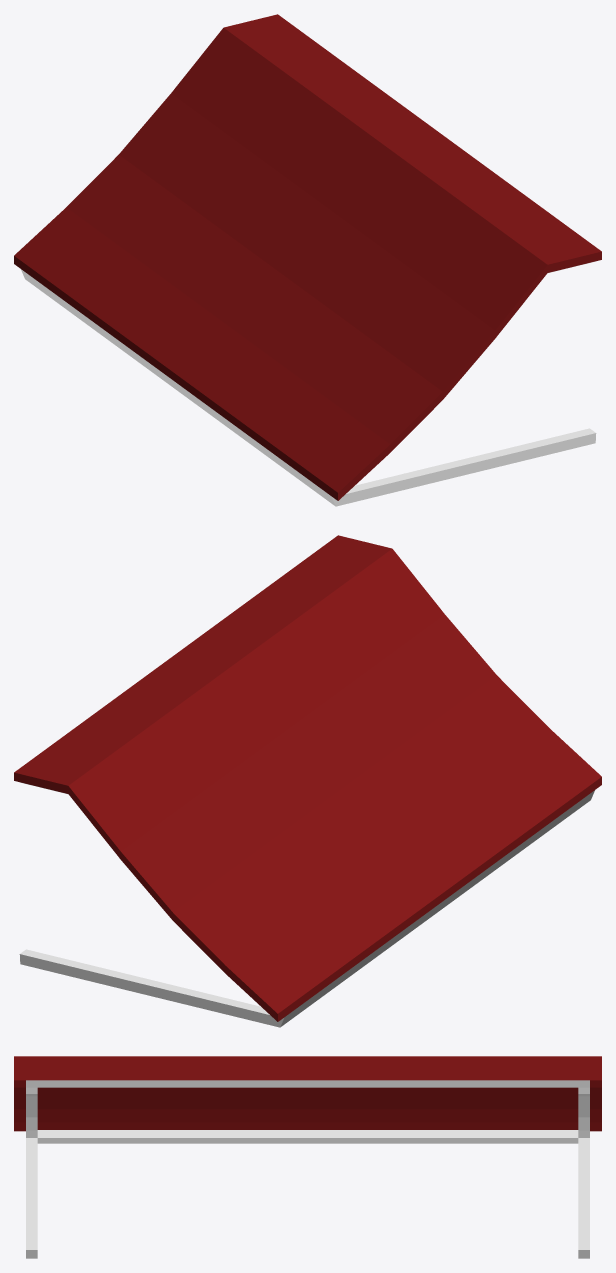
Rendered from O_V_F_All_TonnelBrick.fbx.
3 renders of one model, top to bottom at view 1: azimuth 30°, elevation 25°; view 2: azimuth 150°, elevation 25°; view 3: azimuth 270°, elevation 25°, orthographic. The views are drawn at different scales.
Parts seen in each view (by area): view 1: Box021; view 2: Box021; view 3: Box021.
Part boxes in pixels (x1=…): Box021: x1=14, y1=14, x2=601, y2=506; Box021: x1=14, y1=535, x2=601, y2=1027; Box021: x1=14, y1=1056, x2=601, y2=1258.
Size of the model in its own units: 1.42 by 1 by 3.
